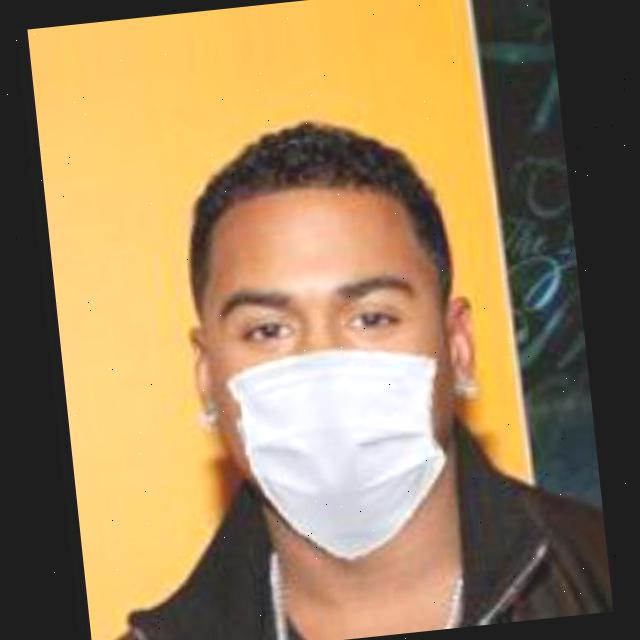suspicion: (161, 82, 520, 532)
